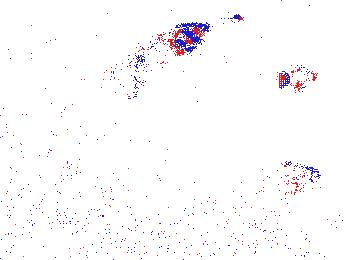X-ray fish: (139, 22, 210, 64), (254, 159, 325, 196)
red belly glassfish: (210, 11, 245, 30)
redtail glassfish: (274, 61, 318, 97)
